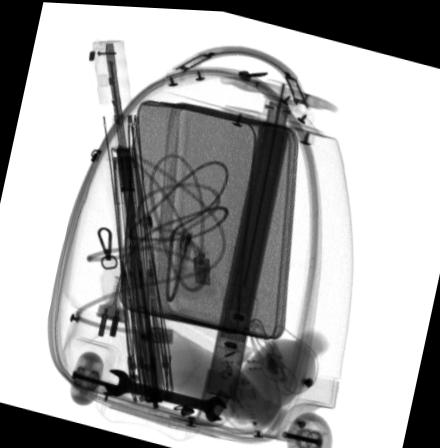Wrench: (102, 367, 225, 420)
